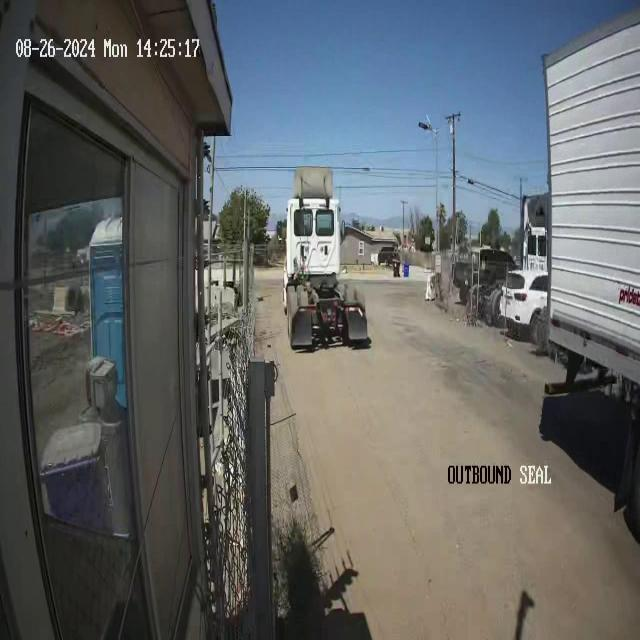CONTAINER: (542, 13, 640, 392)
